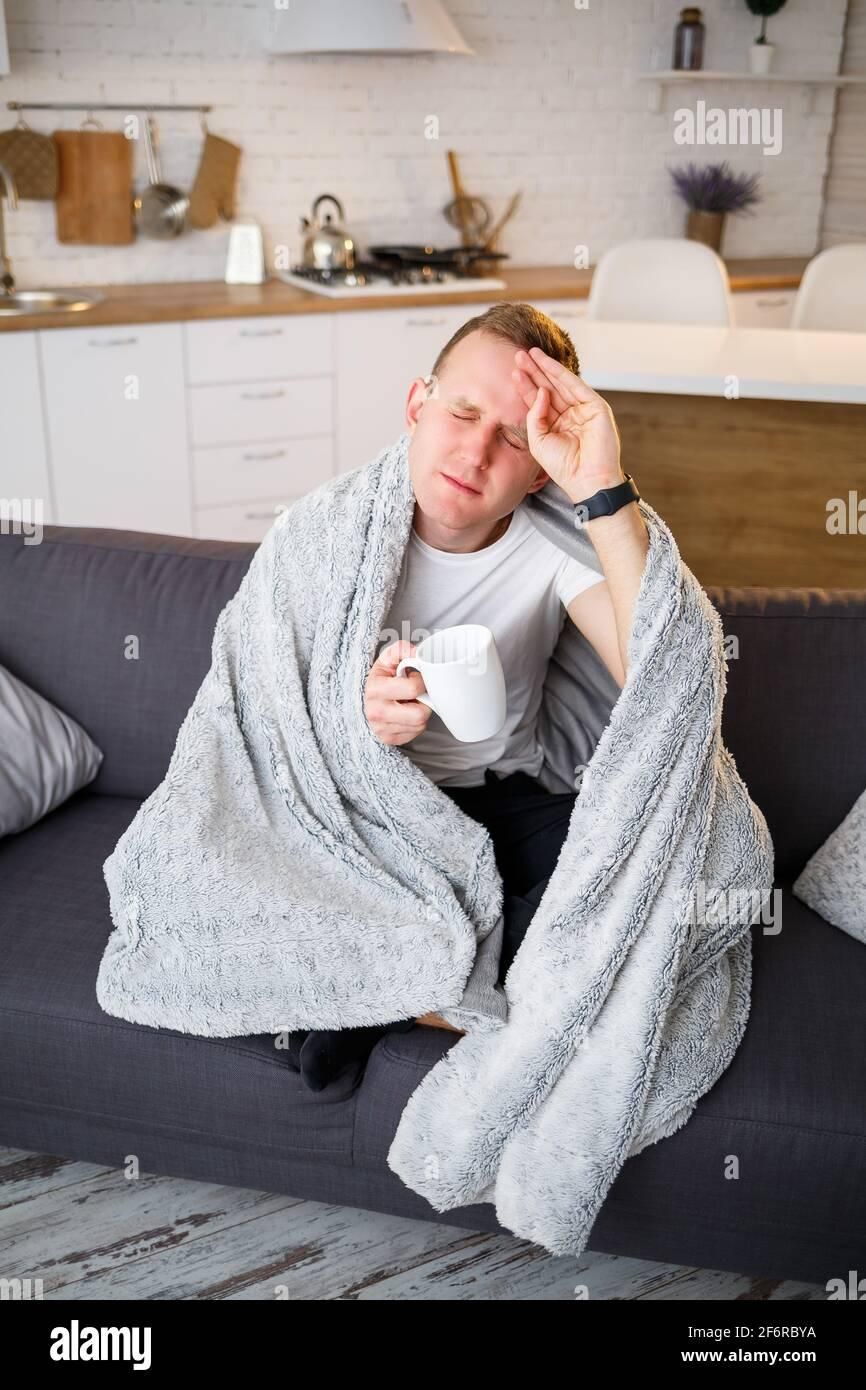blanket: (94, 429, 779, 1259)
short sleeve shirt: (368, 502, 609, 794)
